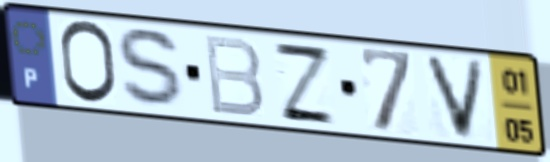7: (359, 45, 417, 136)
B: (201, 32, 267, 121)
O: (56, 17, 120, 108)
S: (114, 25, 192, 113)
V: (420, 52, 489, 144)
Z: (269, 39, 340, 129)
